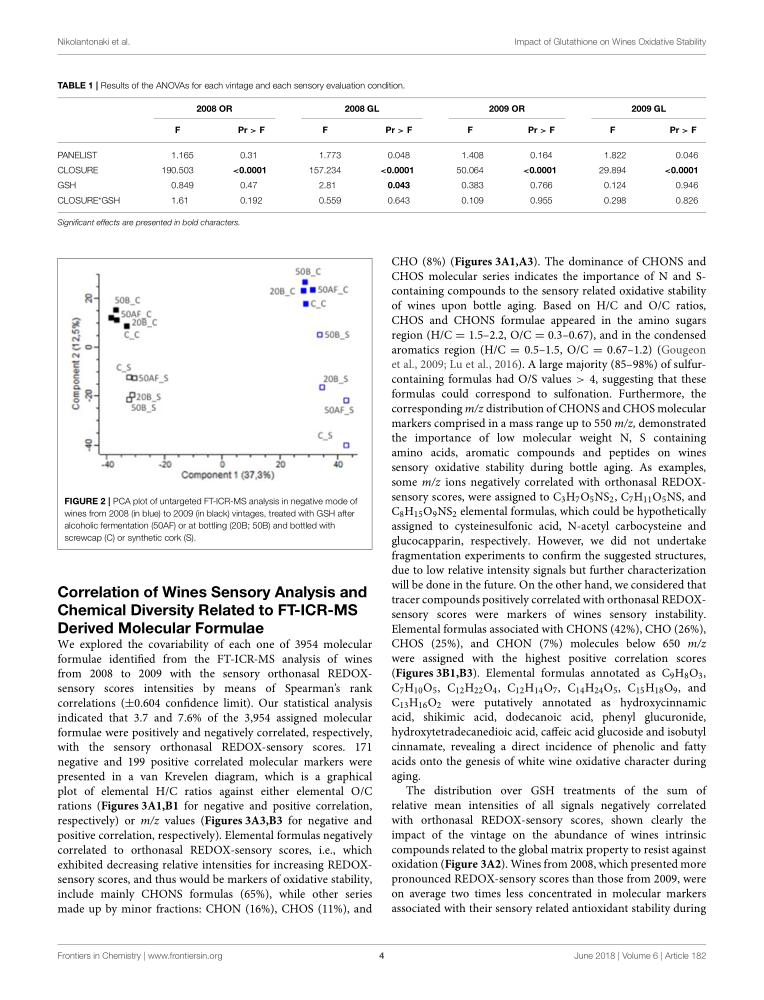table: (57, 104, 697, 205)
